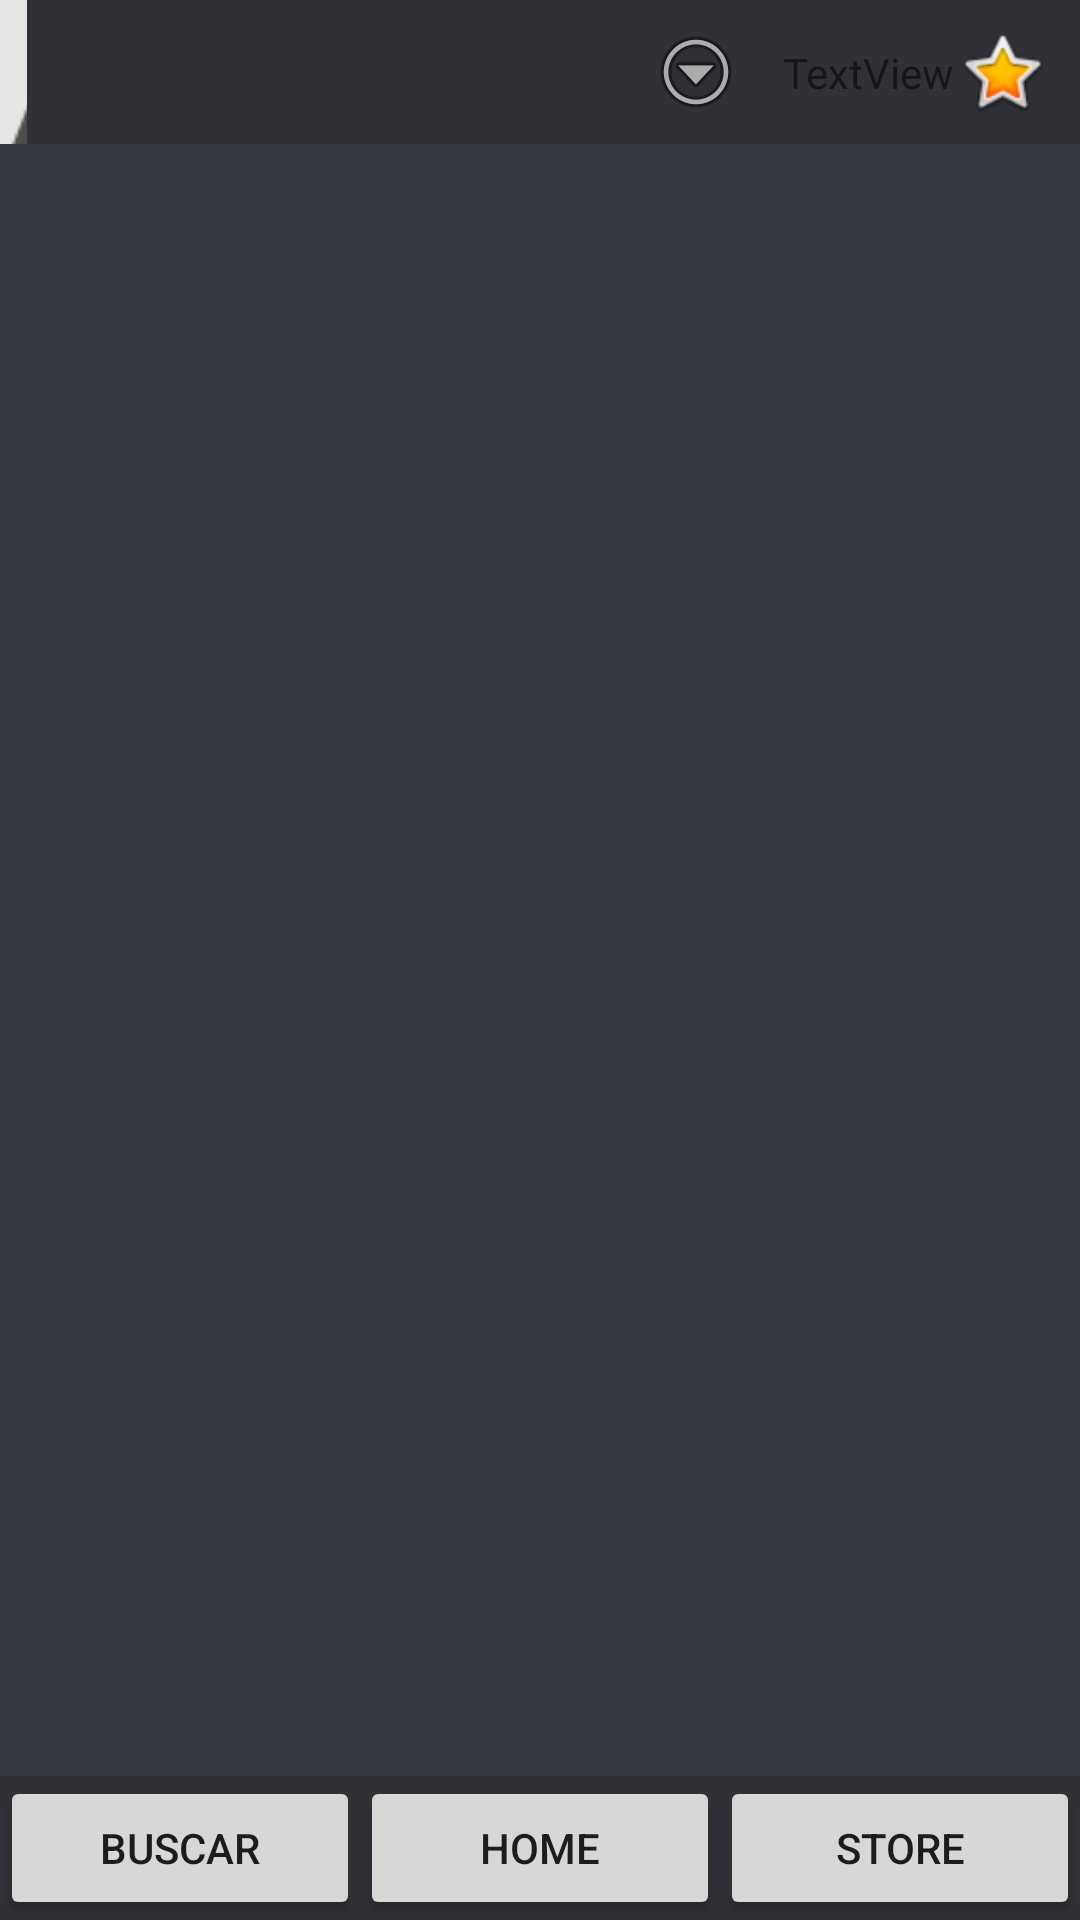

Where to tap for icons on this 1080px×1920px app screen, as (x,y):
more: (696,72)
star on: (1003,71)
